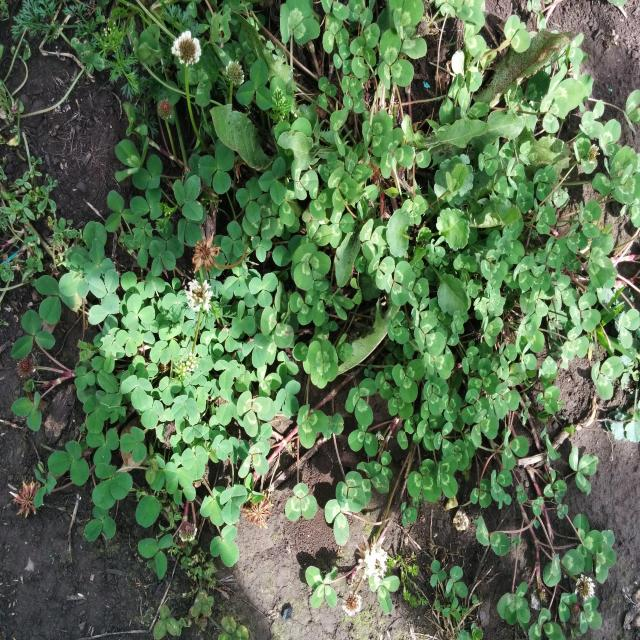Four Leaf Clover: (307, 340, 339, 388), (305, 566, 338, 608)
